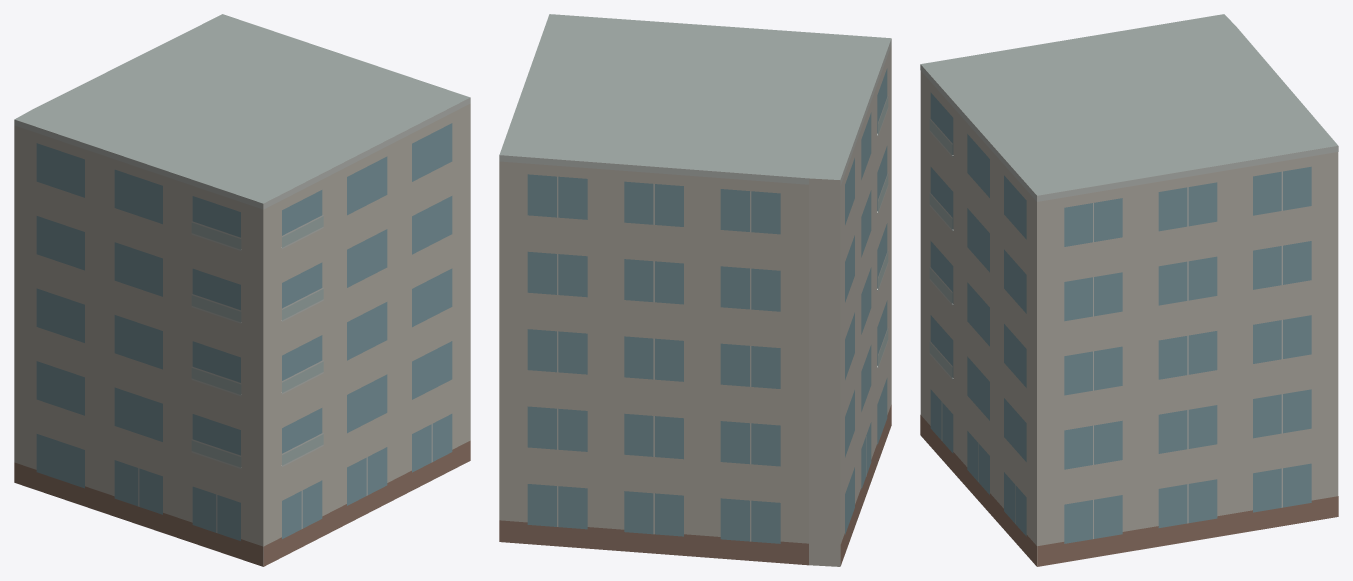
Rendered from survey-upis-32943239.glb.
The picture shows the model from 3 angles, left to right: view 1: azimuth 30°, elevation 25°; view 2: azimuth 150°, elevation 25°; view 3: azimuth 270°, elevation 25°; orthographic projection. The views are drawn at different scales.
Parts seen in each view (by area): view 1: survey-upis-32943239.tmp; view 2: survey-upis-32943239.tmp; view 3: survey-upis-32943239.tmp.
Part boxes in pixels (x1,y1,x2,y2): survey-upis-32943239.tmp: [14, 14, 470, 566]; survey-upis-32943239.tmp: [499, 14, 891, 566]; survey-upis-32943239.tmp: [920, 14, 1338, 566].
Bounding box in the file's own units: 15.56 × 14.8 × 15.12.
